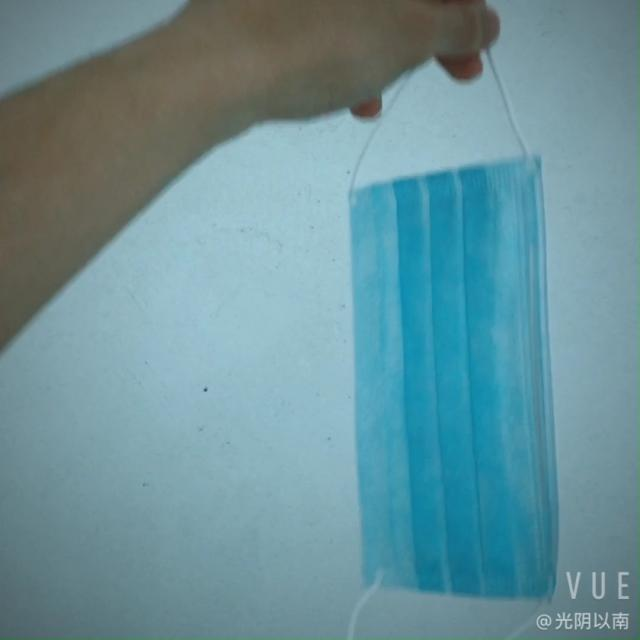non-organic waste: (331, 141, 564, 591)
